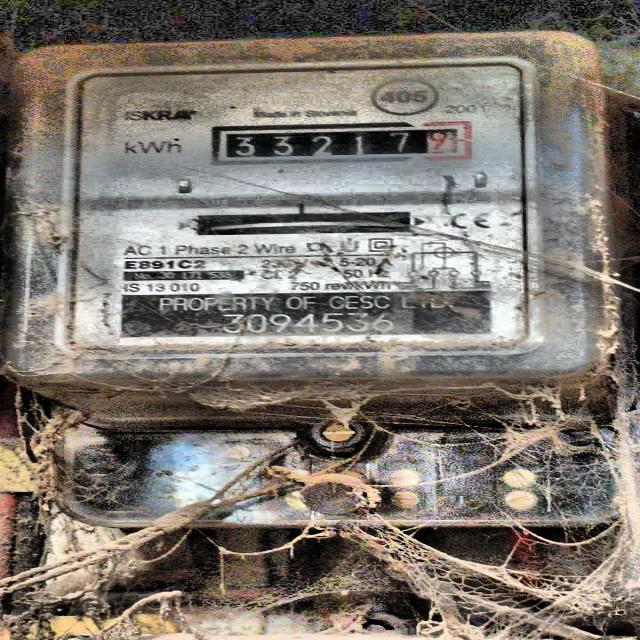Analog: (9, 29, 611, 410)
Reading: (222, 128, 474, 157)
Serial No.: (220, 313, 408, 335)
